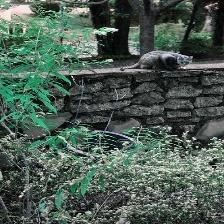kedo: (121, 51, 193, 71)
